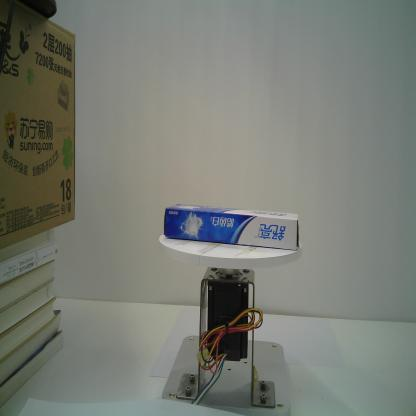Personal Hygiene: (162, 202, 302, 251)
